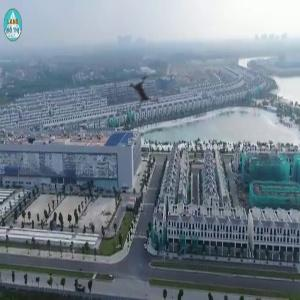drone: (112, 59, 183, 130)
